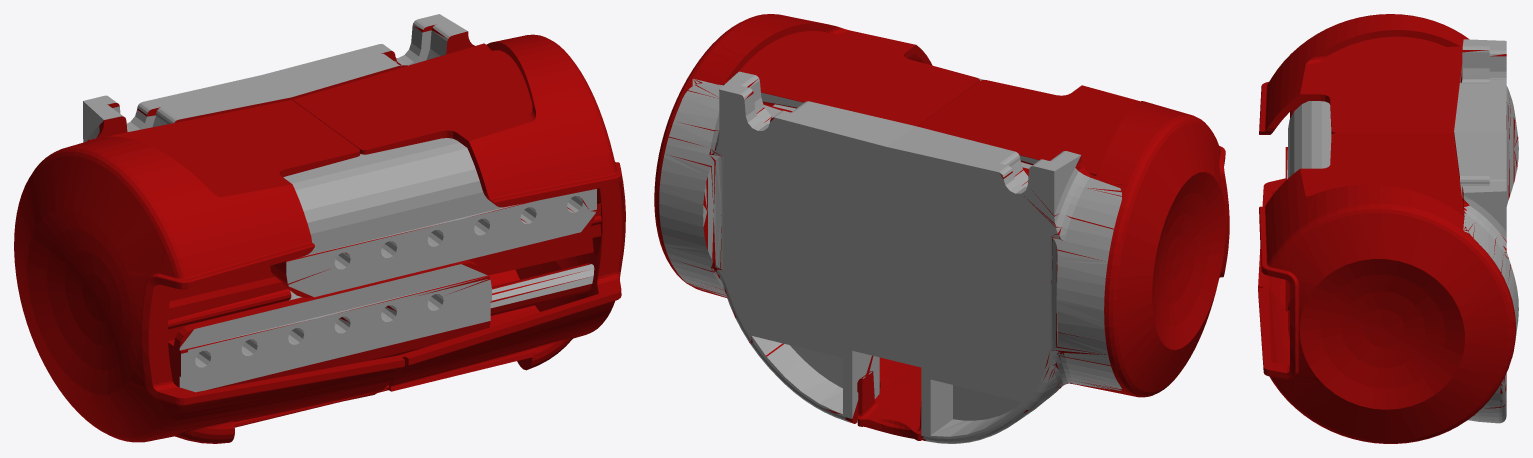
The model's file is electric_gripper_base.obj.
The picture shows the model from 3 angles, left to right: view 1: azimuth 30°, elevation 25°; view 2: azimuth 150°, elevation 25°; view 3: azimuth 270°, elevation 25°; orthographic projection. The views are drawn at different scales.
Visible parts, largest first — view 1: electric_gripper_base; view 2: electric_gripper_base; view 3: electric_gripper_base.
Boxes of the visible parts, x1,y1,x2,y2 form: electric_gripper_base: (14,14,625,443); electric_gripper_base: (654,14,1229,443); electric_gripper_base: (1258,14,1518,443).
Bounding box in the file's own units: 0.1055 × 0.0659 × 0.0534.
